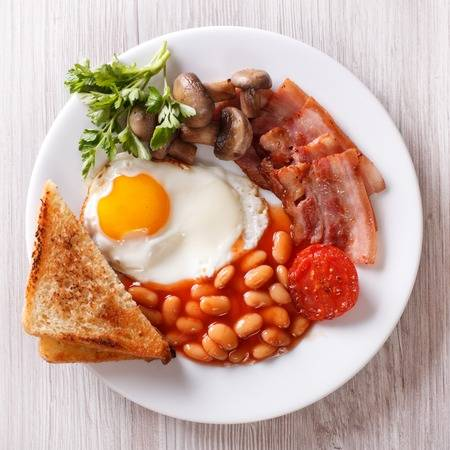fried egg: (81, 156, 251, 275)
slice of bread: (35, 185, 165, 368)
